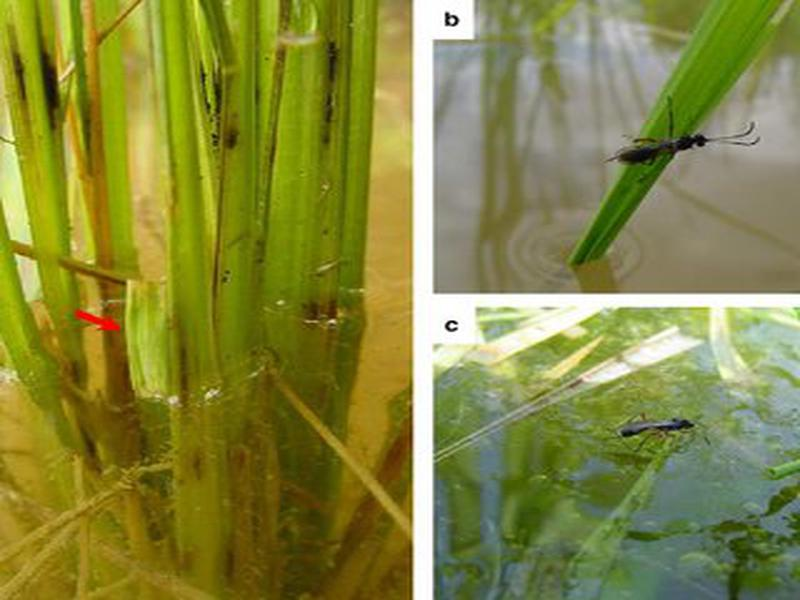Rice_case_worm: (557, 371, 780, 461), (582, 108, 737, 184), (117, 270, 202, 396)
